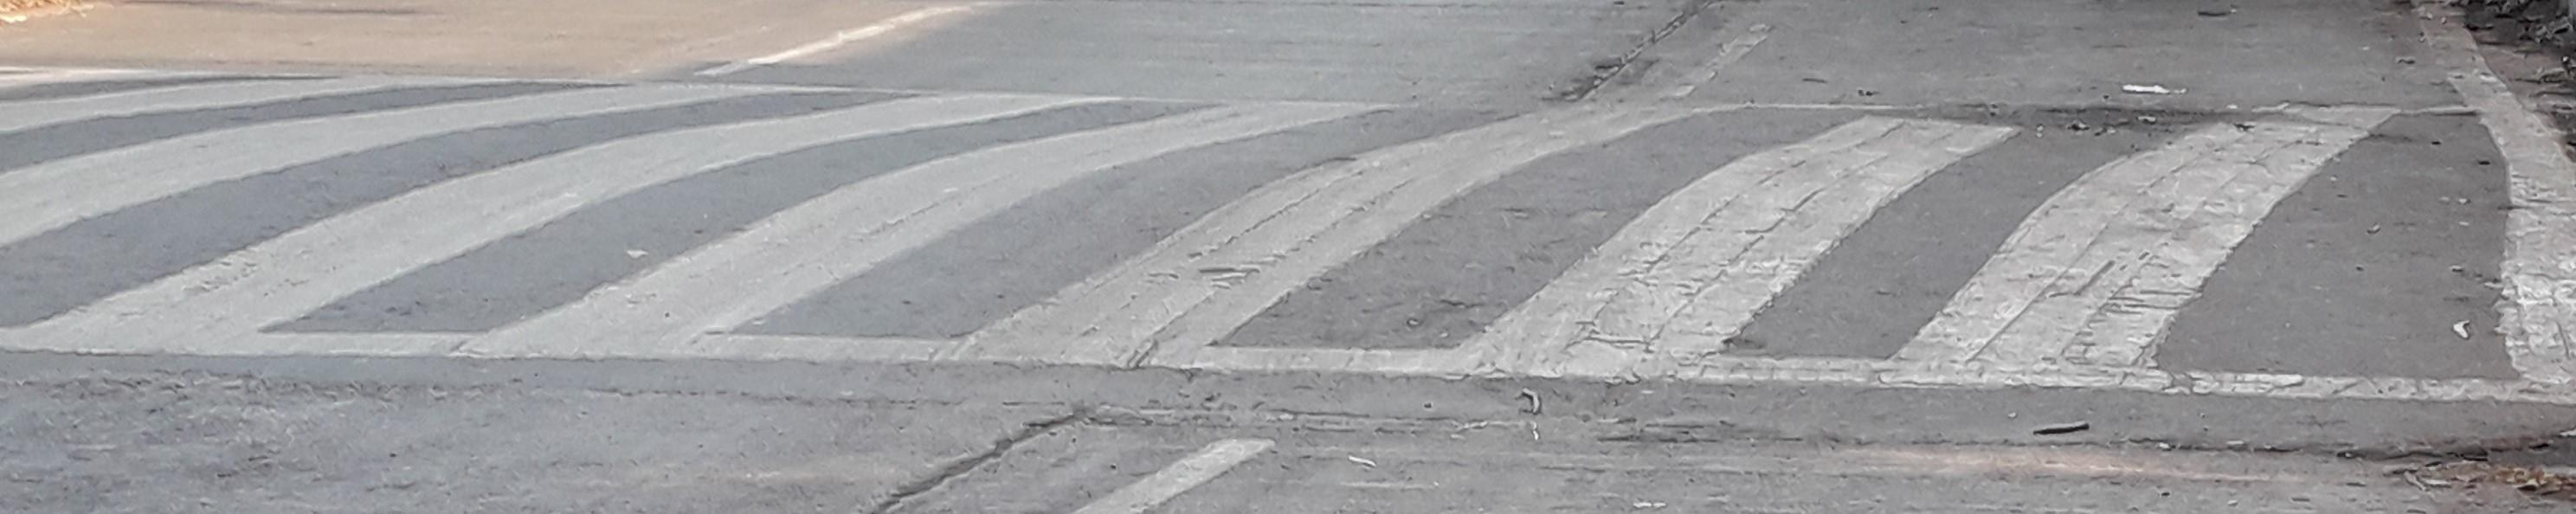speed-bump: (2, 58, 2573, 426)
